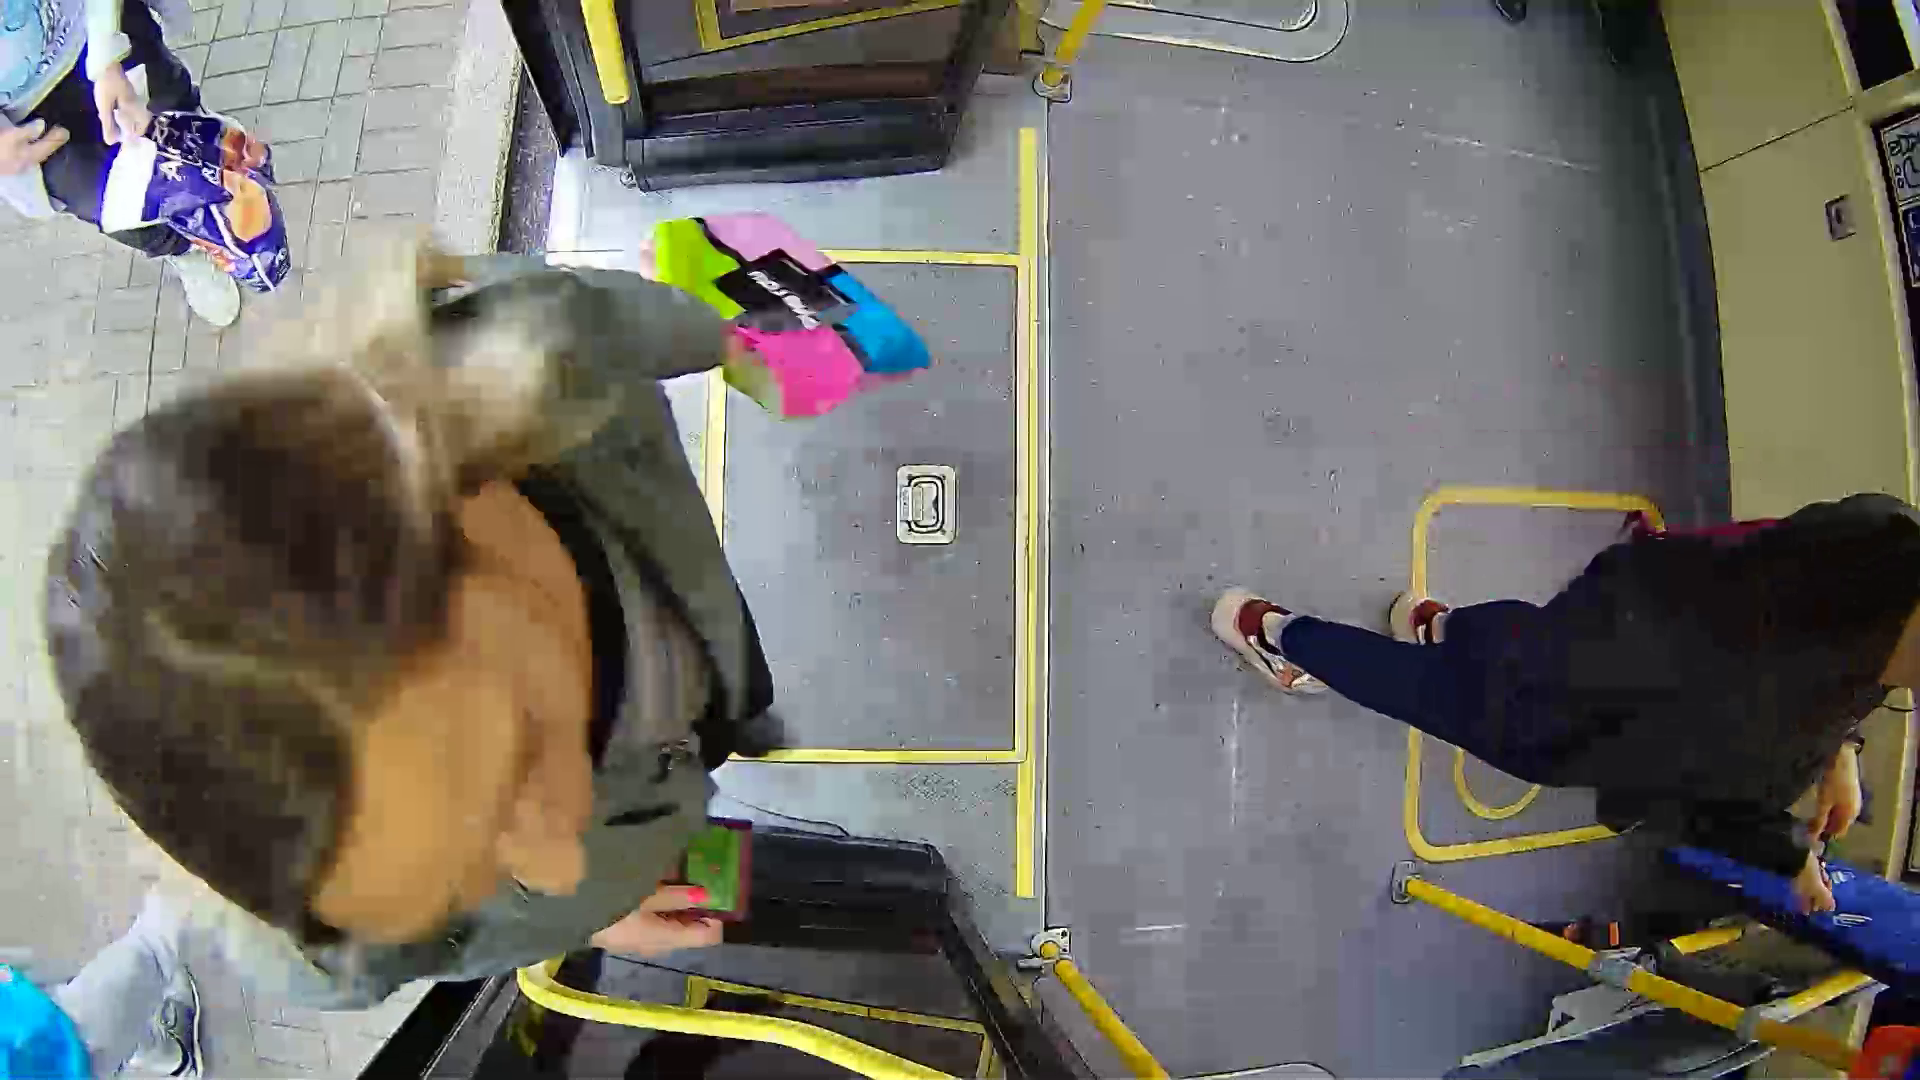person: (45, 250, 795, 913), (1248, 470, 1904, 931)
